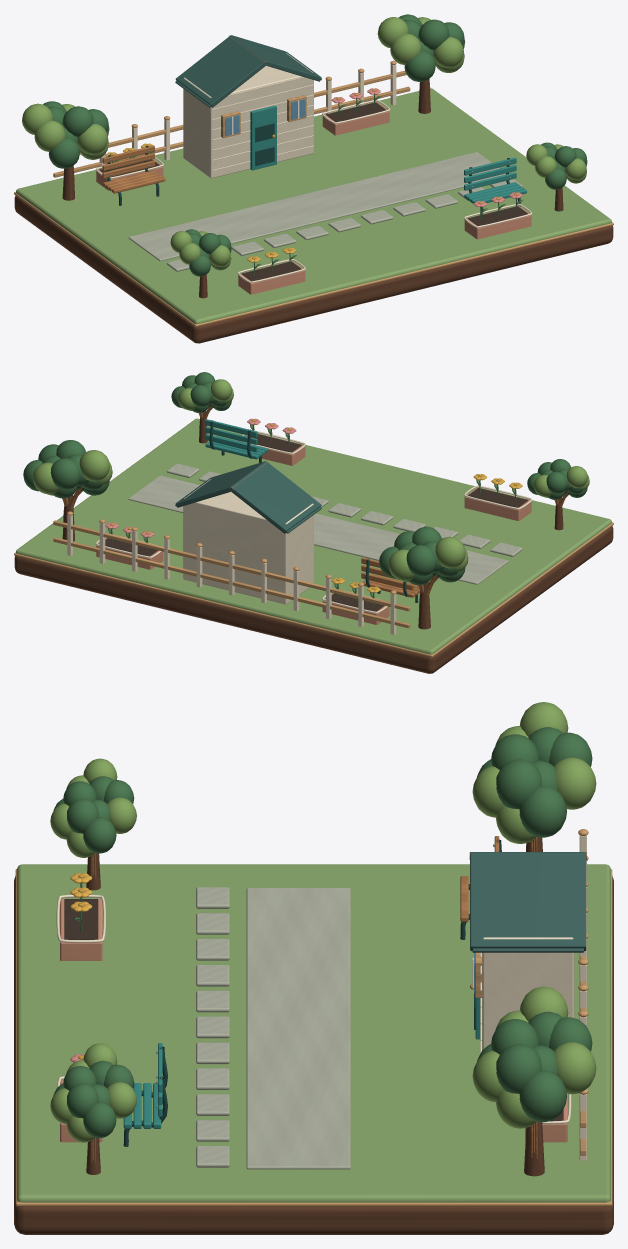
File: town.glb
3 renders of one model, top to bottom at view 1: azimuth 30°, elevation 25°; view 2: azimuth 150°, elevation 25°; view 3: azimuth 270°, elevation 25°, orthographic. The views are drawn at different scales.
Visible parts, largest first — view 1: Crafted_grass, Crafted_stone, Crafted_edge, Crafted_plaster, Crafted_lightleaf, Crafted_leaf, Crafted_roof, Crafted_wood_light, Crafted_cream, Crafted_teal, Crafted_ceramic, Crafted_wood (+3 smaller); view 2: Crafted_grass, Crafted_edge, Crafted_plaster, Crafted_leaf, Crafted_stone, Crafted_wood_light, Crafted_roof, Crafted_lightleaf, Crafted_cream, Crafted_ceramic, Crafted_soil, Crafted_wood (+2 smaller); view 3: Crafted_grass, Crafted_stone, Crafted_edge, Crafted_leaf, Crafted_lightleaf, Crafted_roof, Crafted_plaster, Crafted_wood_light, Crafted_ceramic, Crafted_cream, Crafted_teal, Crafted_soil (+2 smaller).
Part boxes in pixels (box(x1,y1,x2,y2)): Crafted_grass: box(16, 88, 611, 323); Crafted_stone: box(128, 152, 522, 271); Crafted_edge: box(14, 79, 613, 343); Crafted_plaster: box(183, 53, 313, 178); Crafted_lightleaf: box(22, 17, 586, 270); Crafted_leaf: box(43, 14, 587, 276); Crafted_roof: box(175, 35, 321, 107); Crafted_wood_light: box(14, 60, 613, 327); Crafted_cream: box(95, 64, 532, 283); Crafted_teal: box(250, 105, 526, 203); Crafted_ceramic: box(96, 102, 531, 294); Crafted_wood: box(73, 35, 566, 284); Crafted_grass: box(16, 418, 611, 654); Crafted_edge: box(14, 411, 613, 673); Crafted_plaster: box(183, 479, 313, 604); Crafted_leaf: box(23, 372, 587, 605); Crafted_stone: box(128, 463, 522, 584); Crafted_wood_light: box(14, 511, 613, 657); Crafted_roof: box(175, 461, 321, 533); Crafted_lightleaf: box(32, 379, 589, 595); Crafted_cream: box(67, 430, 532, 634); Crafted_ceramic: box(96, 434, 531, 624); Crafted_soil: box(105, 434, 528, 611); Crafted_wood: box(62, 405, 568, 610); Crafted_grass: box(17, 864, 610, 1202); Crafted_stone: box(196, 887, 350, 1169); Crafted_edge: box(14, 837, 613, 1234); Crafted_leaf: box(53, 727, 592, 1138); Crafted_lightleaf: box(50, 702, 596, 1142); Crafted_roof: box(470, 852, 586, 952); Crafted_plaster: box(482, 937, 574, 1049); Crafted_wood_light: box(15, 829, 612, 1206); Crafted_ceramic: box(60, 899, 567, 1142); Crafted_cream: box(56, 835, 586, 1160); Crafted_teal: box(123, 998, 480, 1128); Crafted_soil: box(64, 899, 563, 1121).
Size of the model in its own units: 13.58 by 3.93 by 9.8.
Materials: 20 (6 with a texture image).
